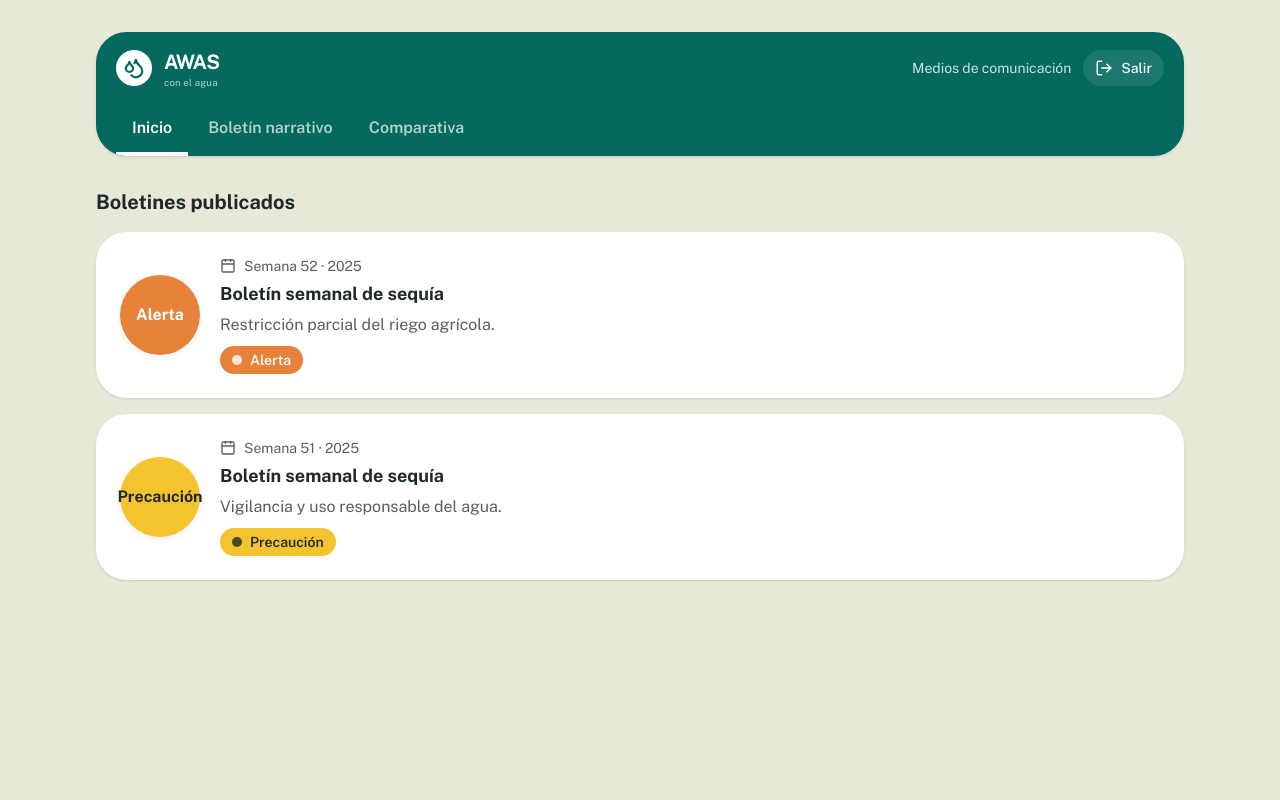
MediosDashboard › Comparativa: grafica el historial junto a las sequías históricas (sin endpoint, sigue mockeado)
This screenshot has width=1280, height=800.
Expected: the text "Semana 52 · 2025" is shown, [220,258,362,274]
Click the button "Comparativa" at [416, 130], box [353,104,480,156]
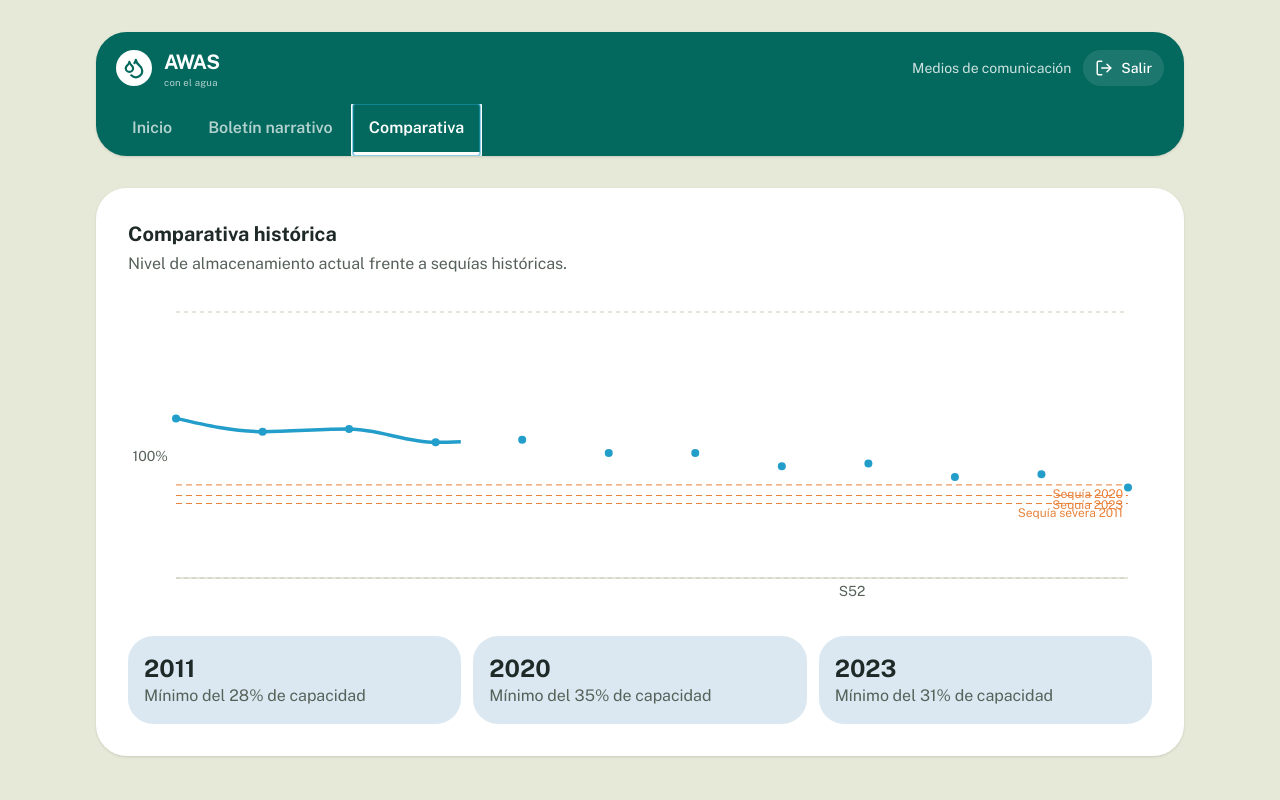
Now the text "2011" is shown, box [144,654,195,682]
Now the text "2020" is shown, box [489,654,551,682]
Now the text "2023" is shown, box [835,654,897,682]
